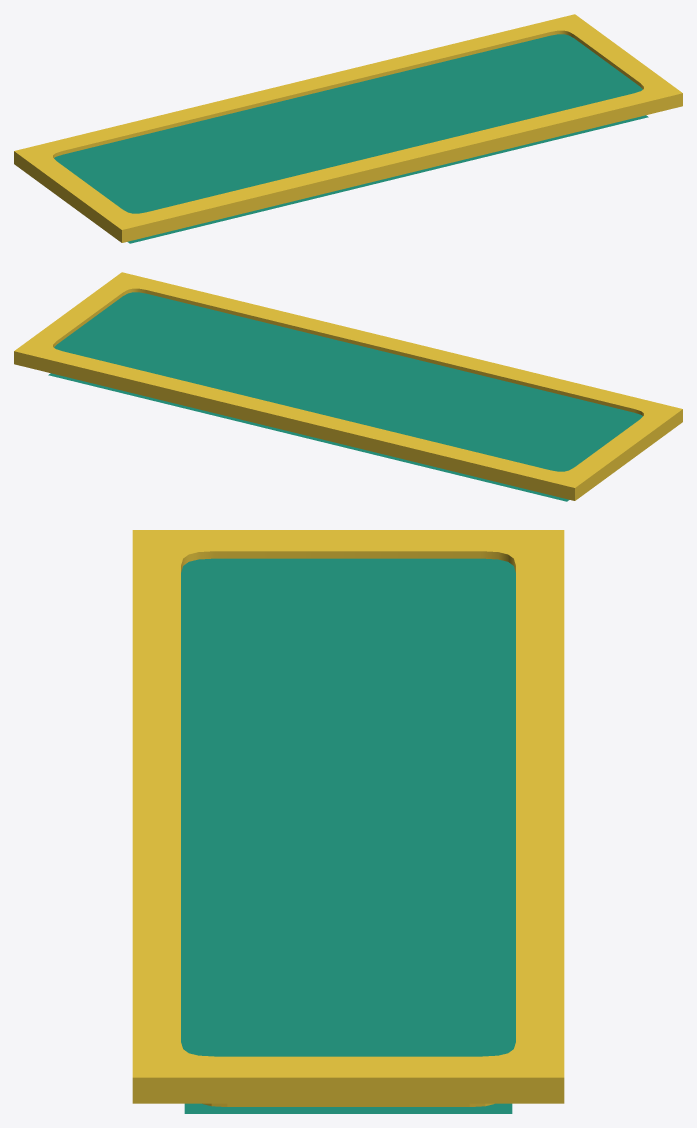
File: Floor_A_LineHalf_Win3m.FBX
The picture shows the model from 3 angles, top to bottom: view 1: azimuth 30°, elevation 25°; view 2: azimuth 150°, elevation 25°; view 3: azimuth 270°, elevation 25°; orthographic projection. The views are drawn at different scales.
Visible parts, largest first — view 1: Floor_A_LineHalf_Win3m_Glass, Floor_A_LineHalf_Win3m; view 2: Floor_A_LineHalf_Win3m_Glass, Floor_A_LineHalf_Win3m; view 3: Floor_A_LineHalf_Win3m_Glass, Floor_A_LineHalf_Win3m.
Part boxes in pixels (<box>): Floor_A_LineHalf_Win3m_Glass: <box>54,34,648,243</box>; Floor_A_LineHalf_Win3m: <box>14,14,682,242</box>; Floor_A_LineHalf_Win3m_Glass: <box>48,292,642,501</box>; Floor_A_LineHalf_Win3m: <box>14,272,682,500</box>; Floor_A_LineHalf_Win3m_Glass: <box>181,558,515,1113</box>; Floor_A_LineHalf_Win3m: <box>132,530,564,1106</box>.
Bounding box in the file's own units: 900 × 43.52 × 300.
